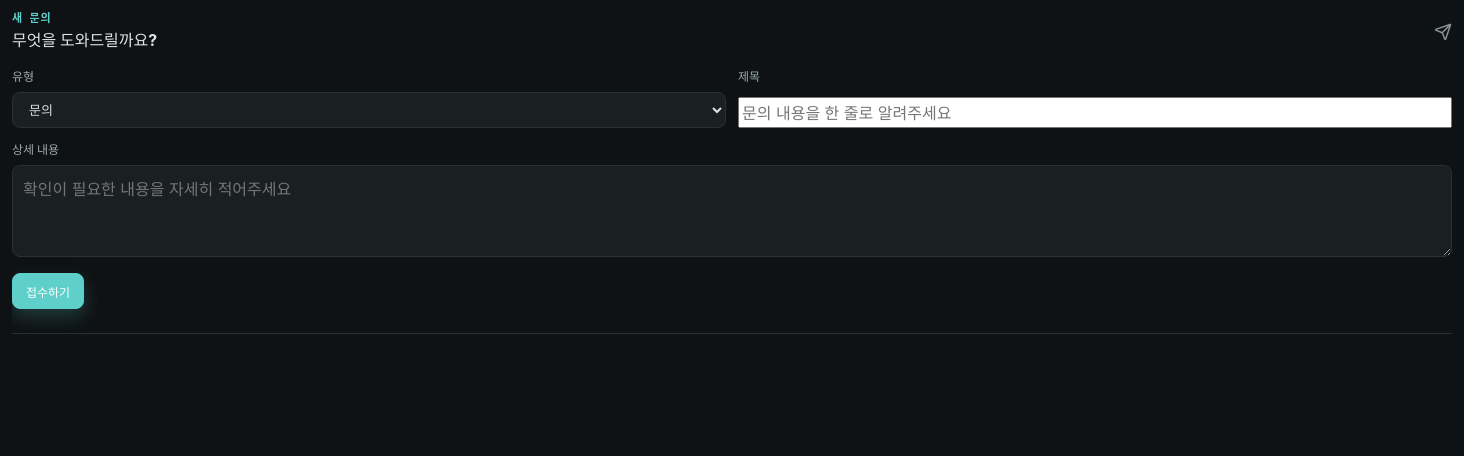
Test: customer inquiry UI › requires meaningful fields, submits once with a fresh key, and shows the server receipt
Expected: the button "접수하기" is disabled, [12,273,84,309]
Select "이의 제기" in the dropdown named "문의 유형" at {"x": 369, "y": 110}, box [12,92,726,128]
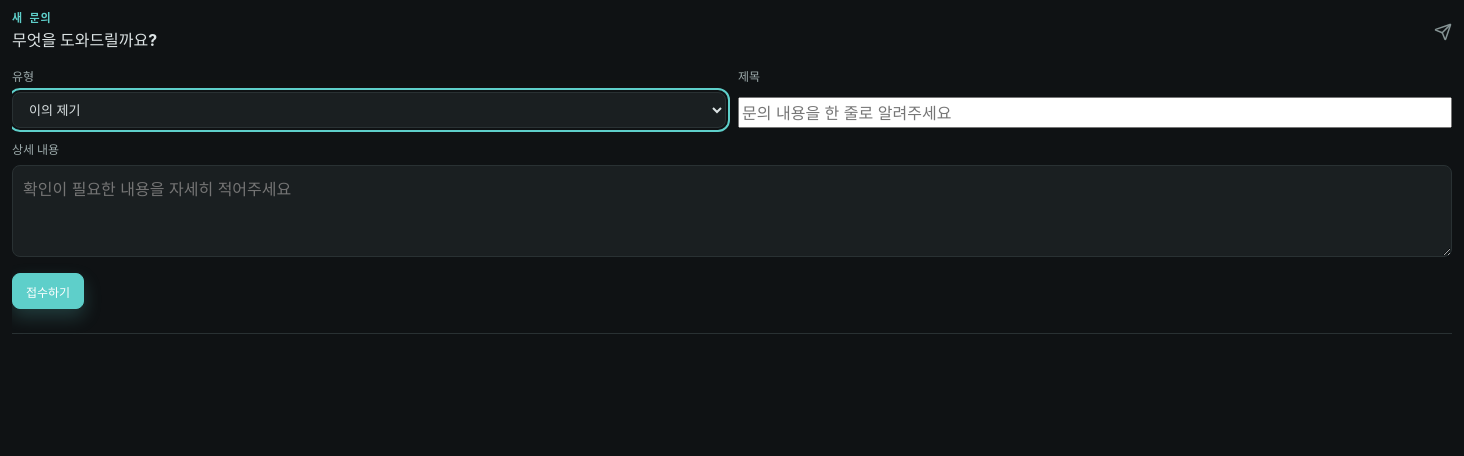
Type "제재 이의" into the field named "문의 제목" at {"x": 1095, "y": 112}, box [738,97,1452,128]
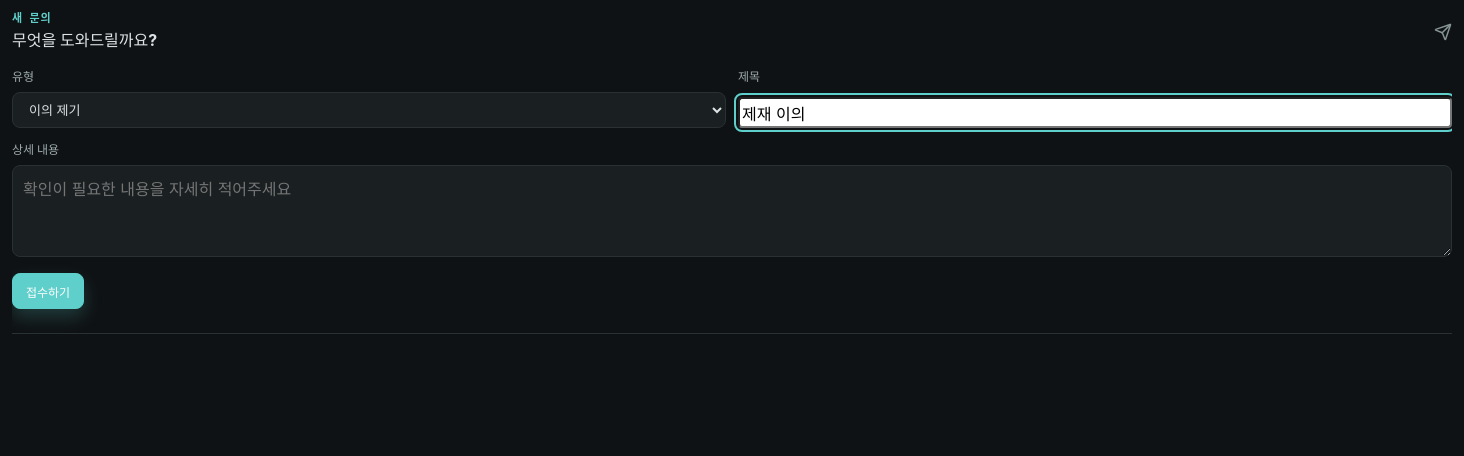
Type "검토를 요청합니다." into the text box named "문의 내용" at {"x": 732, "y": 211}, box [12,165,1452,257]
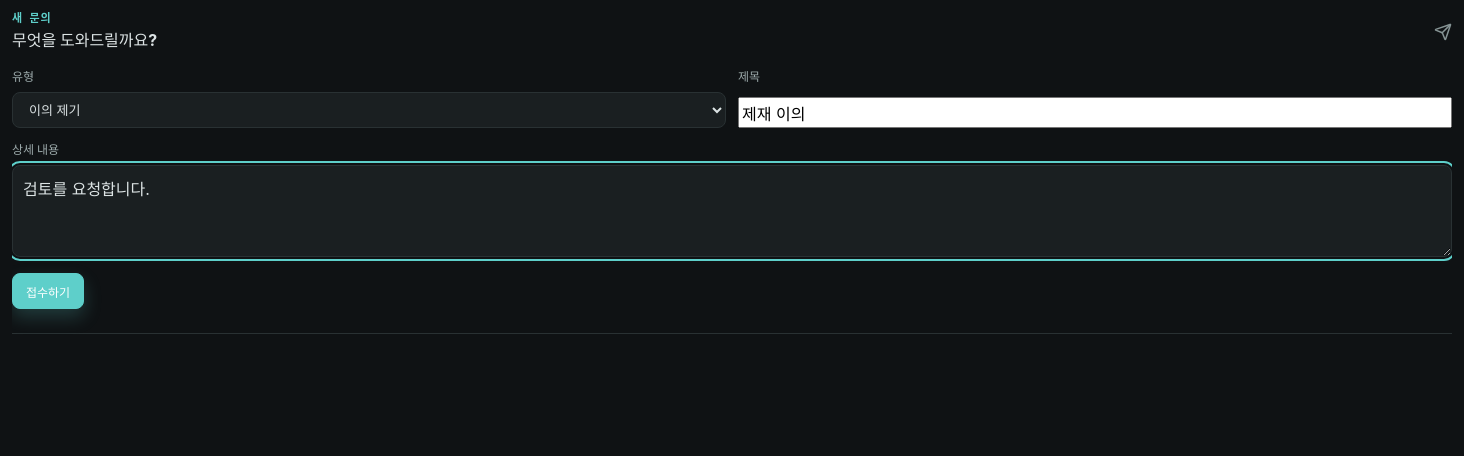
Click the button "접수하기" at {"x": 48, "y": 291}, box [12,273,84,309]
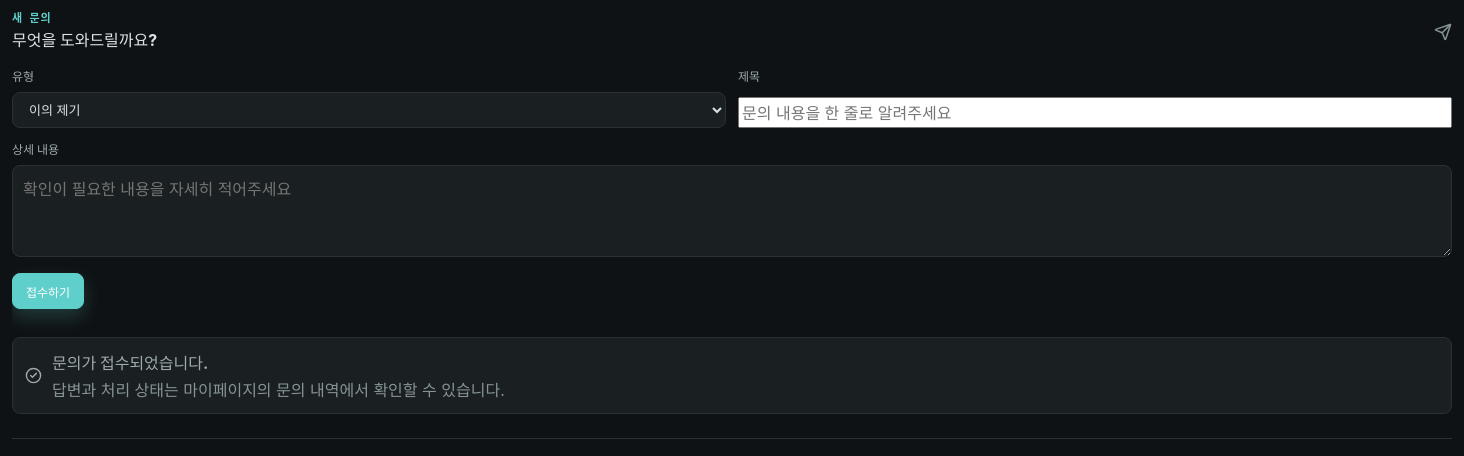
Result: the text "문의가 접수되었습니다." is shown at [52,353,208,373]
